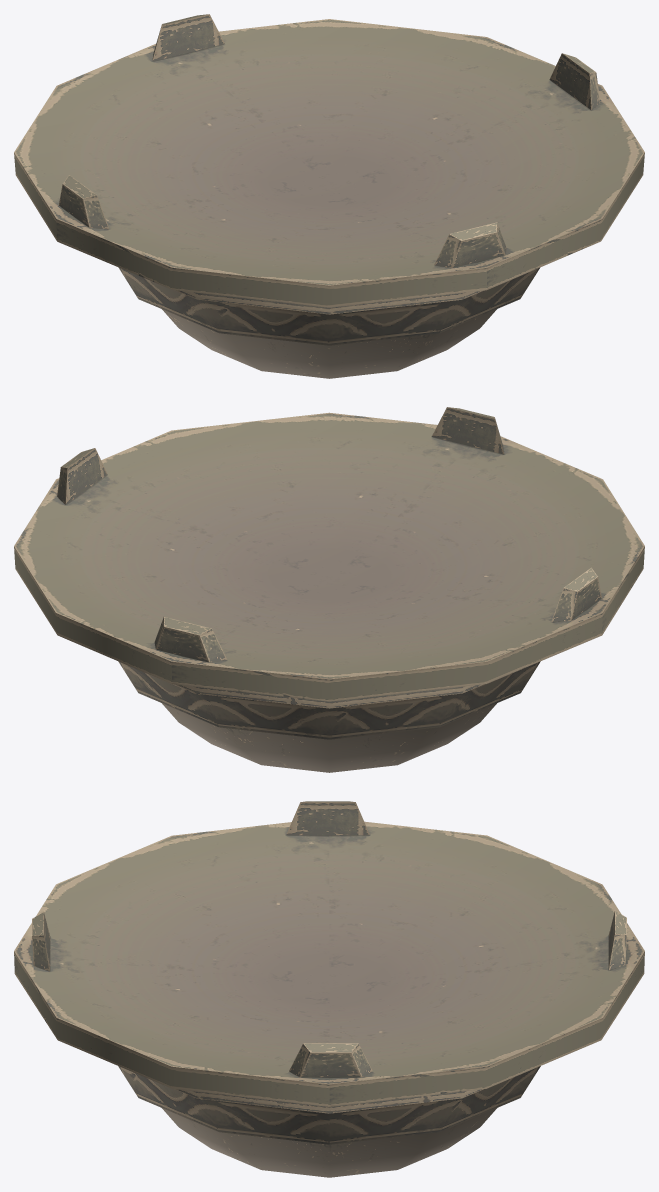
Rendered from mod_zlc_jianzhu015_xy.FBX.
3 views of the same model, one above another, from view 1: azimuth 30°, elevation 25°; view 2: azimuth 150°, elevation 25°; view 3: azimuth 270°, elevation 25° (orthographic).
Visible parts, largest first — view 1: mod_zlc_jianzhu015_xy; view 2: mod_zlc_jianzhu015_xy; view 3: mod_zlc_jianzhu015_xy.
Boxes of the visible parts, x1,y1,x2,y2 form: mod_zlc_jianzhu015_xy: (14,14,644,378); mod_zlc_jianzhu015_xy: (14,407,644,772); mod_zlc_jianzhu015_xy: (14,801,644,1177).
Size of the model in its own units: 367 by 143 by 367.
1 material, 1 textured.
